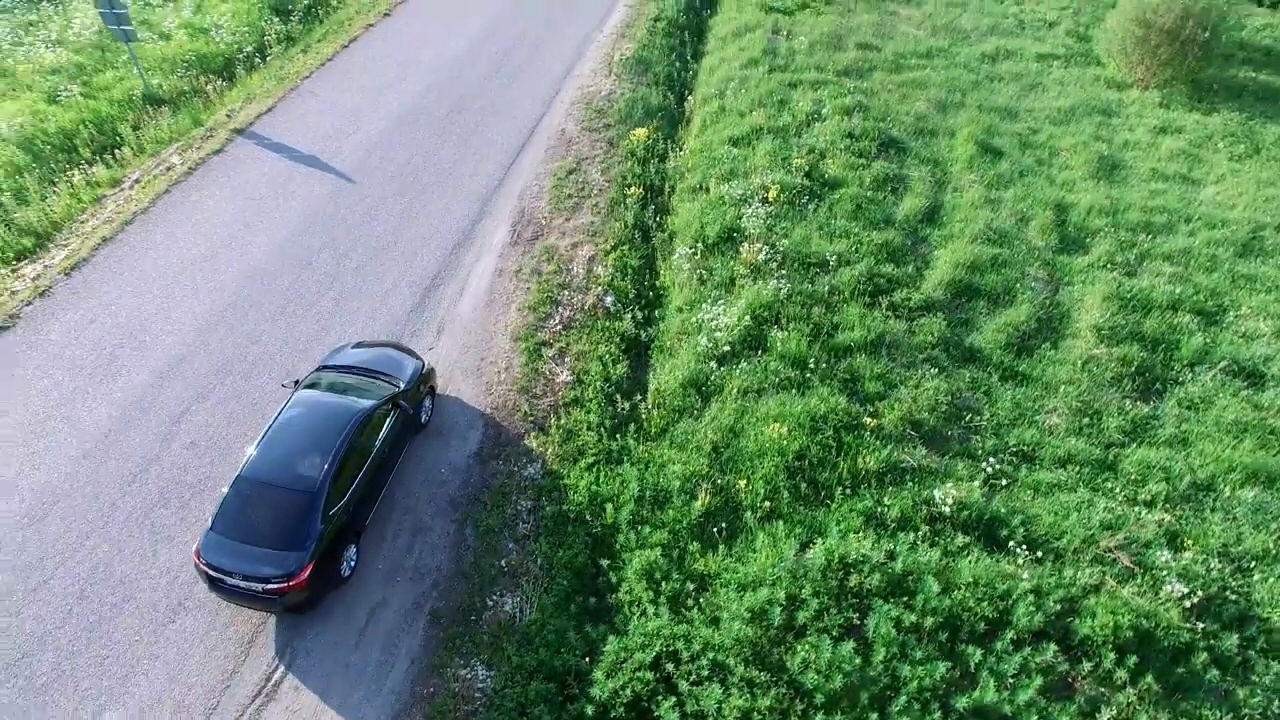araba: (186, 336, 439, 610)
